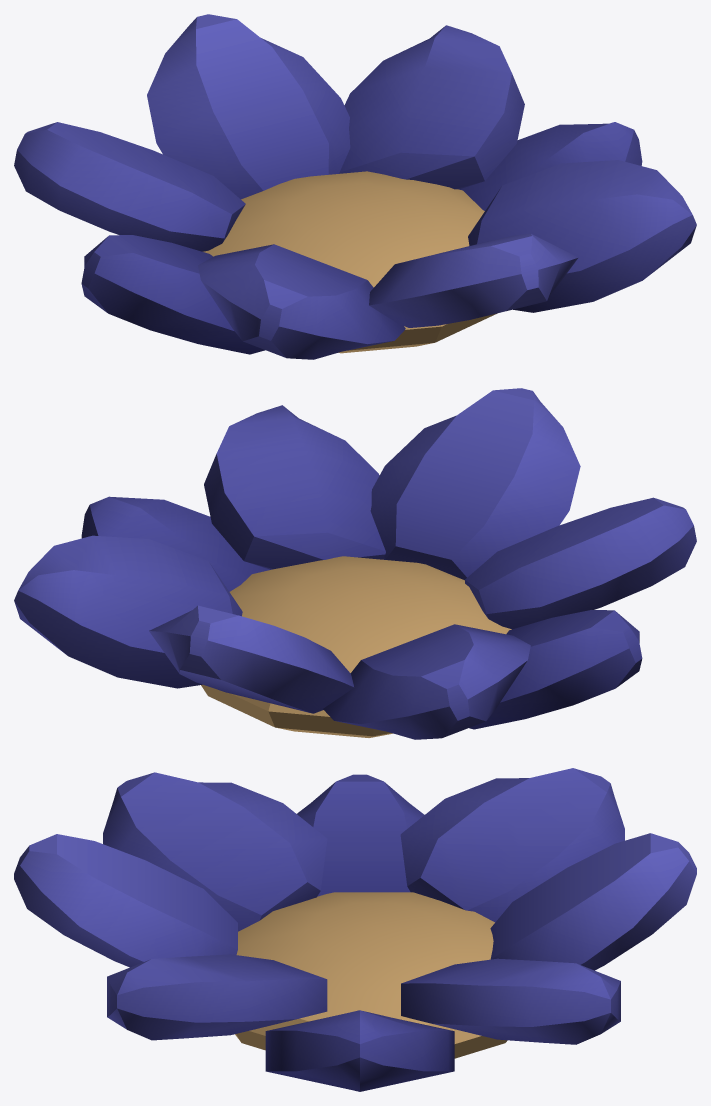
Rendered from FlorAzul_4_elementosDecorativos_T.fbx.
The picture shows the model from 3 angles, top to bottom: view 1: azimuth 30°, elevation 25°; view 2: azimuth 150°, elevation 25°; view 3: azimuth 270°, elevation 25°; orthographic projection.
Parts seen in each view (by area): view 1: Flor 1.001; view 2: Flor 1.001; view 3: Flor 1.001.
Part boxes in pixels (box(x1,y1,x2,y2)): Flor 1.001: box(14, 14, 696, 359); Flor 1.001: box(14, 388, 696, 739); Flor 1.001: box(14, 768, 696, 1091).
Bounding box in the file's own units: 680 × 225 × 721.
